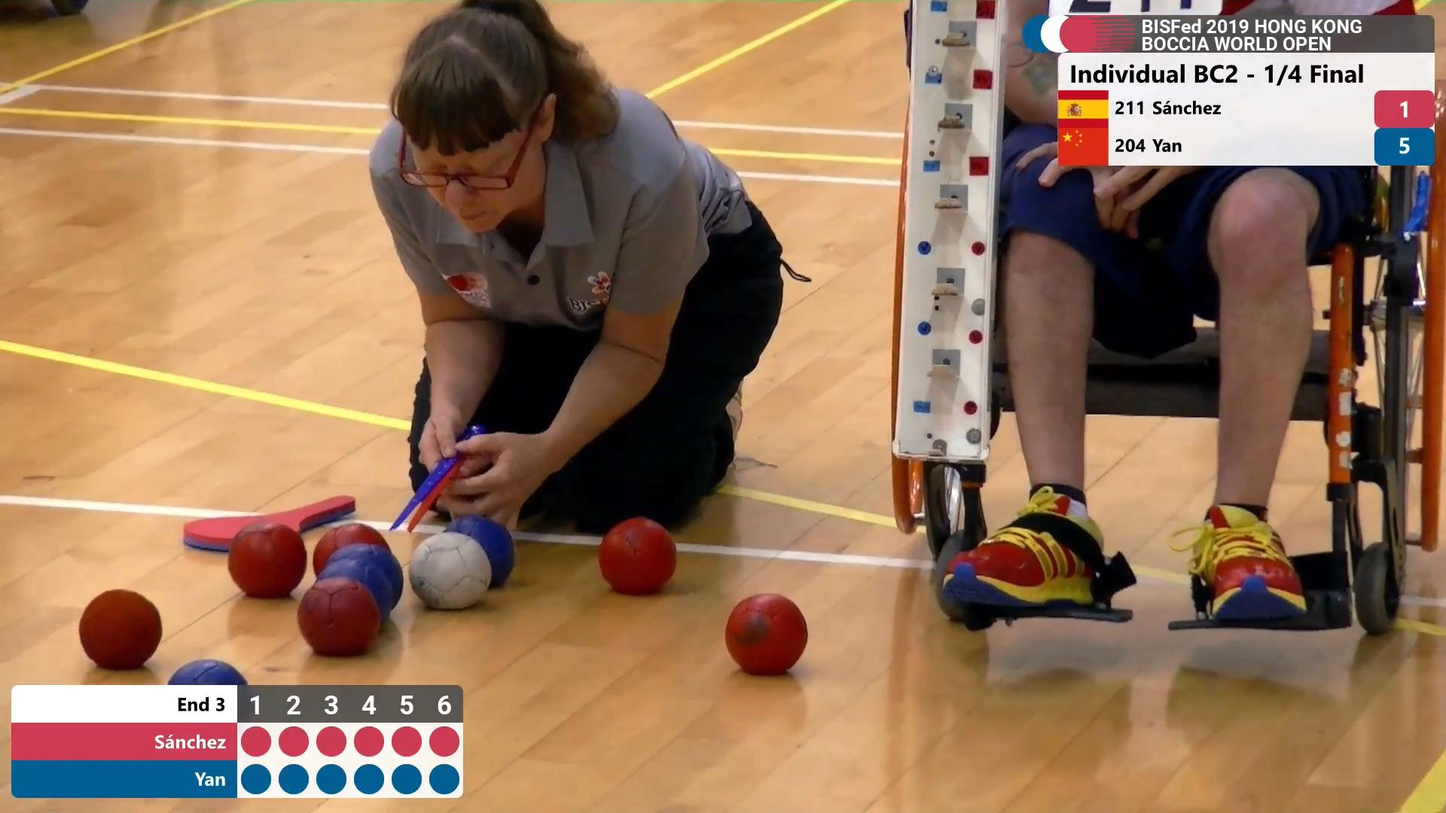blue_ball: (324, 561, 401, 607), (168, 660, 245, 686)
red_ball: (77, 589, 162, 671), (725, 591, 808, 673), (300, 582, 382, 656), (599, 522, 678, 593), (231, 526, 304, 596)
white_ball: (411, 532, 492, 610)
